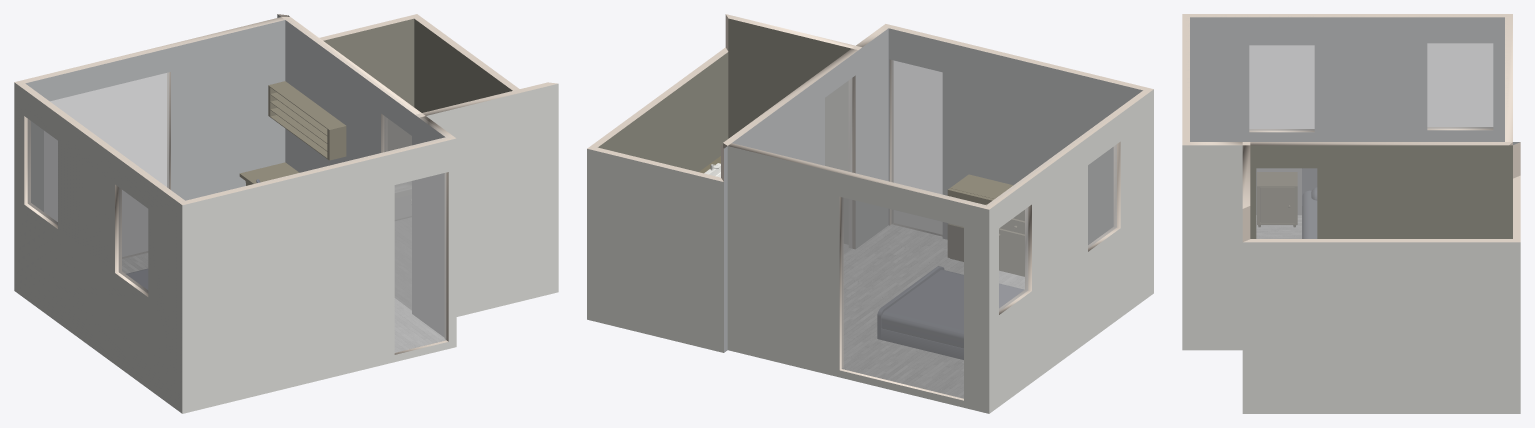
3 renders of one model, left to right at view 1: azimuth 30°, elevation 25°; view 2: azimuth 150°, elevation 25°; view 3: azimuth 270°, elevation 25°, orthographic. The views are drawn at different scales.
Parts seen in each view (by area): view 1: wall_20, ceiling_Bedroom, wall_6, wall_3, wall_9, wall_23, door_2, door_5, door_1, door_3, wall_17, wall_13 (+16 smaller); view 2: ceiling_Bedroom, wall_1, wall_6, wall_2, wall_11, door_1, door_3, floor_Bedroom_1, wall_15, wall_17, door_2, door_5 (+18 smaller); view 3: wall_4, ceiling_Bedroom, wall_21, wall_7, wall_8, window_1, window_4, window_2, window_3, door_6, door_4, storage_cabinet_low10 (+10 smaller).
Part boxes in pixels (left/top/right/bottom): wall_20: left=182, top=138, right=456, bottom=413; ceiling_Bedroom: left=26, top=20, right=448, bottom=200; wall_6: left=14, top=82, right=182, bottom=413; wall_3: left=426, top=83, right=558, bottom=316; wall_9: left=25, top=20, right=285, bottom=211; wall_23: left=285, top=20, right=416, bottom=316; door_2: left=395, top=173, right=445, bottom=352; door_5: left=395, top=173, right=445, bottom=352; door_1: left=50, top=72, right=168, bottom=187; door_3: left=50, top=73, right=168, bottom=187; wall_17: left=414, top=19, right=512, bottom=112; wall_13: left=323, top=18, right=414, bottom=150; ceiling_Bedroom: left=733, top=28, right=1141, bottom=205; wall_1: left=727, top=146, right=989, bottom=413; wall_6: left=989, top=89, right=1153, bottom=413; wall_2: left=587, top=149, right=723, bottom=352; wall_11: left=888, top=28, right=1142, bottom=244; door_1: left=842, top=197, right=963, bottom=398; door_3: left=842, top=198, right=963, bottom=398; floor_Bedroom_1: left=842, top=224, right=1024, bottom=398; wall_15: left=728, top=18, right=851, bottom=170; wall_17: left=598, top=52, right=728, bottom=171; door_2: left=892, top=60, right=942, bottom=193; door_5: left=892, top=60, right=942, bottom=193; wall_4: left=1242, top=242, right=1520, bottom=413; ceiling_Bedroom: left=1190, top=17, right=1504, bottom=141; wall_21: left=1190, top=17, right=1504, bottom=214; wall_7: left=1250, top=145, right=1508, bottom=238; wall_8: left=1182, top=145, right=1242, bottom=350; window_1: left=1427, top=43, right=1492, bottom=128; window_4: left=1249, top=45, right=1314, bottom=130; window_2: left=1427, top=43, right=1492, bottom=128; window_3: left=1249, top=45, right=1314, bottom=130; door_6: left=1256, top=168, right=1316, bottom=238; door_4: left=1256, top=168, right=1316, bottom=238; storage_cabinet_low10: left=1257, top=172, right=1297, bottom=226.
Size of the model in its own units: 5.88 by 2.88 by 4.31.
